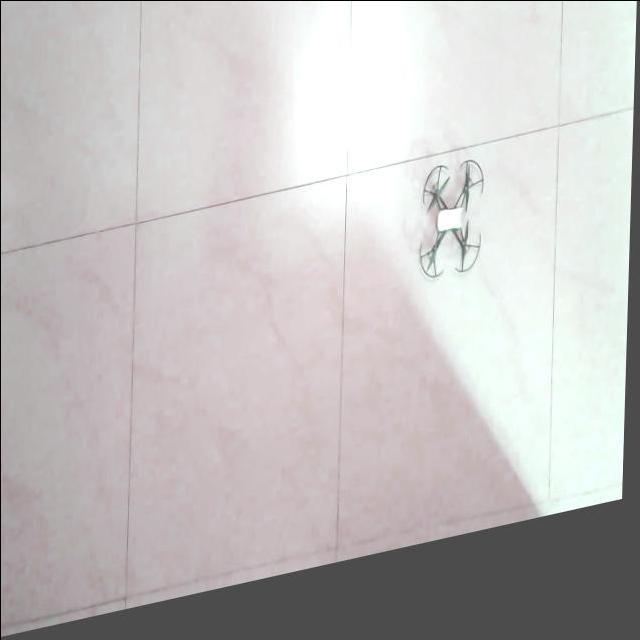drone: (419, 178, 484, 298)
